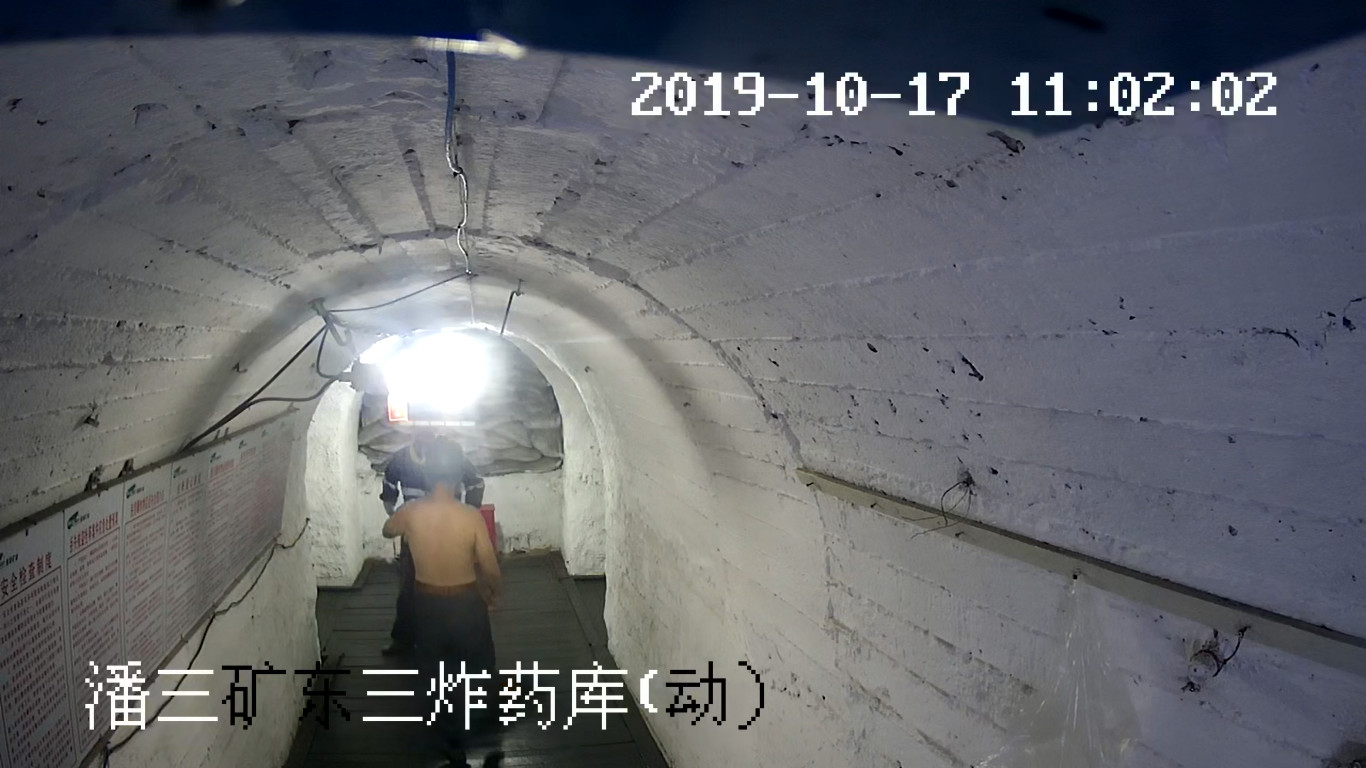helmet: (424, 436, 464, 475)
